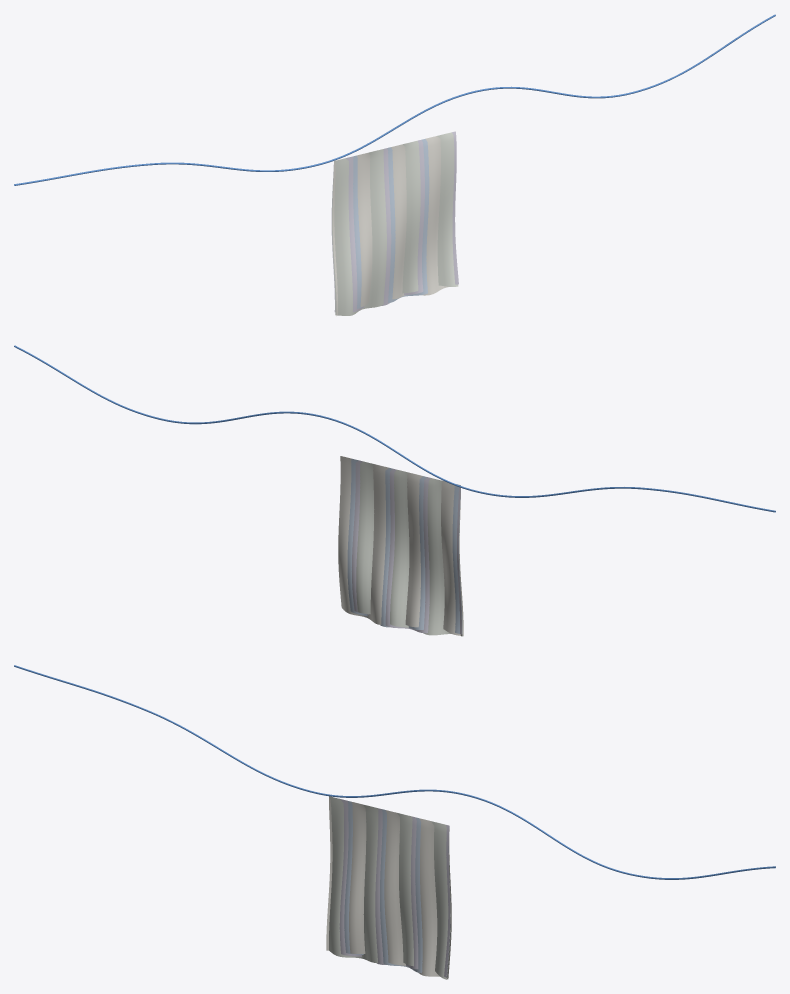
The model's file is spaceyew-home-wind.glb.
3 views of the same model, one above another, from view 1: azimuth 30°, elevation 25°; view 2: azimuth 150°, elevation 25°; view 3: azimuth 330°, elevation 25° (orthographic).
Parts seen in each view (by area): view 1: WindFabric_3, WindFabric_0, WindFabric_2, WindFabric_1, WindCable; view 2: WindFabric_0, WindFabric_3, WindFabric_1, WindFabric_2, WindCable; view 3: WindFabric_3, WindFabric_0, WindFabric_2, WindFabric_1, WindCable.
Part boxes in pixels (x1,y1,x2,y2): WindFabric_3: (332, 132, 458, 315); WindFabric_0: (332, 136, 449, 315); WindFabric_2: (331, 131, 458, 312); WindFabric_1: (332, 139, 429, 308); WindCable: (14, 14, 775, 185); WindFabric_0: (338, 456, 463, 636); WindFabric_3: (356, 461, 462, 636); WindFabric_1: (347, 458, 462, 633); WindFabric_2: (352, 460, 461, 634); WindCable: (14, 345, 775, 512); WindFabric_3: (329, 796, 450, 979); WindFabric_0: (326, 797, 451, 978); WindFabric_2: (339, 799, 450, 977); WindFabric_1: (344, 801, 450, 977); WindCable: (14, 665, 775, 879).
Size of the model in its own units: 13.3 by 3.5 by 0.2568.
